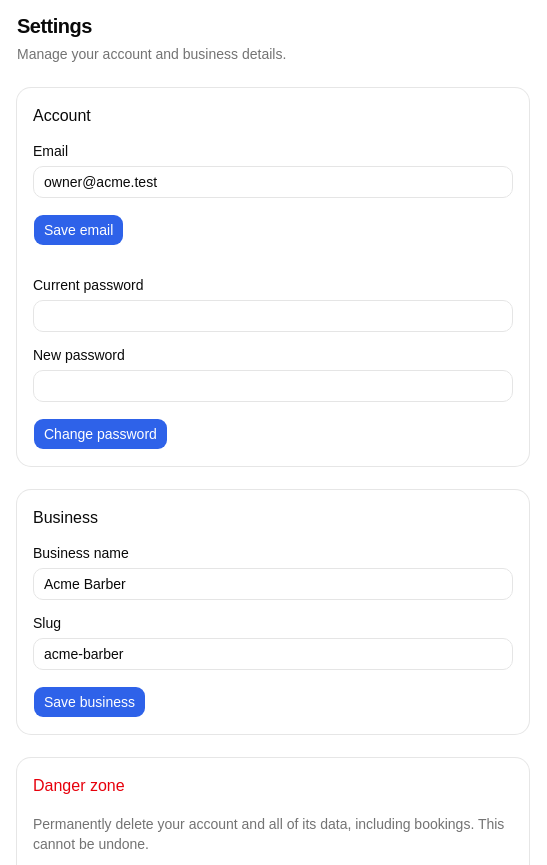
Scenario: Settings page › shows an error when the slug is already taken
Replace the text in the field labelled "Slug" with "taken-slug" at (273,654), box [33,638,513,670]
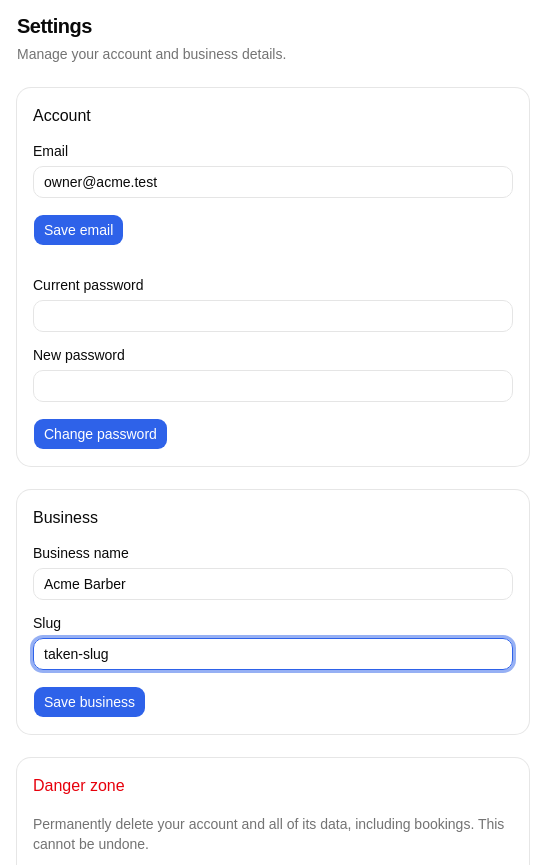
Click the button "Save business".
click(90, 702)  # box [33,686,146,718]
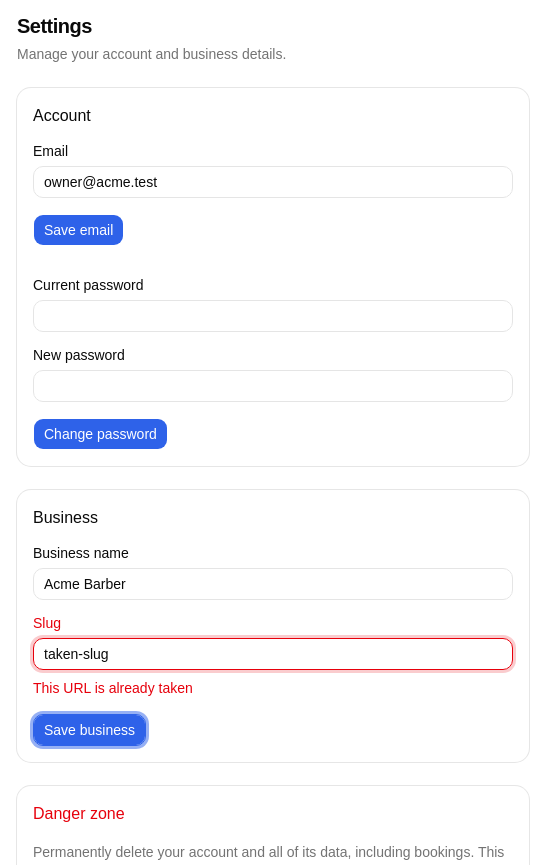
expect the text "This URL is already taken" is shown: met, box [33,680,193,696]
